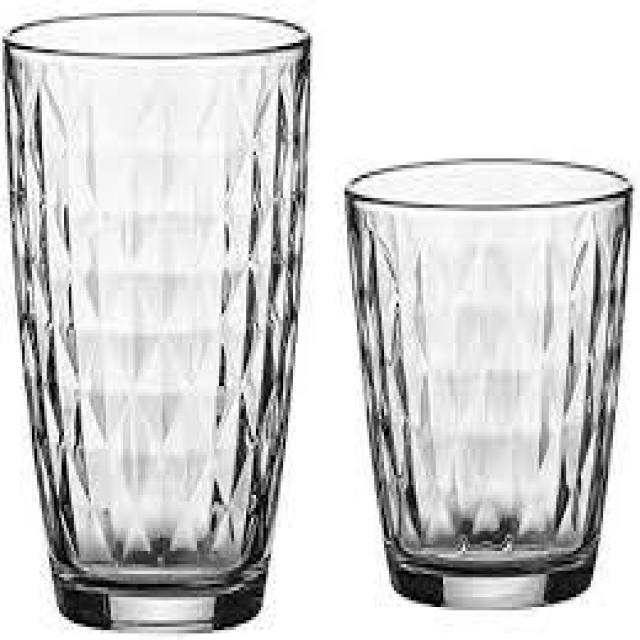non-organic waste: (0, 10, 310, 633)
